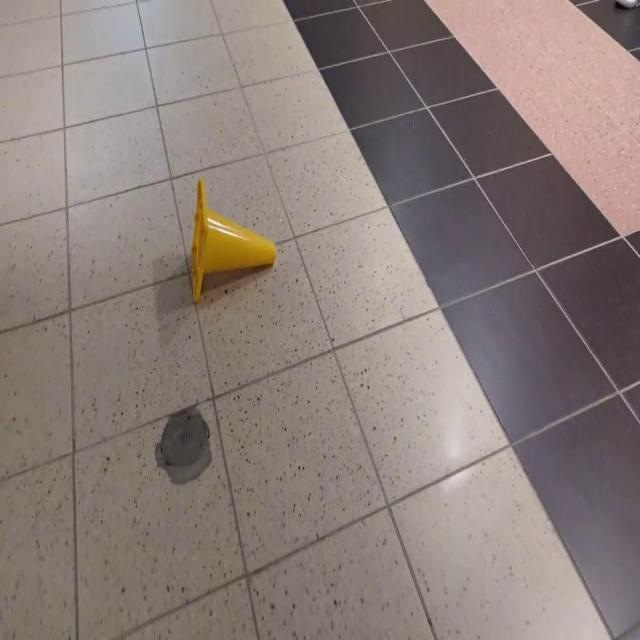frc_cone: (189, 178, 277, 303)
